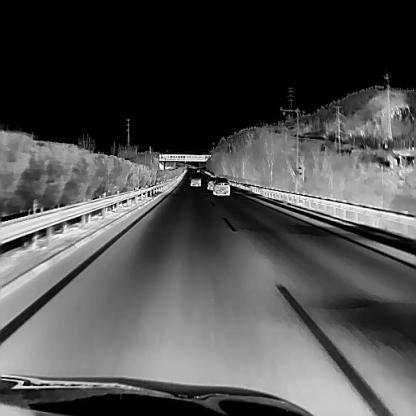car: (212, 176, 229, 195), (205, 175, 218, 189), (189, 173, 201, 185)
